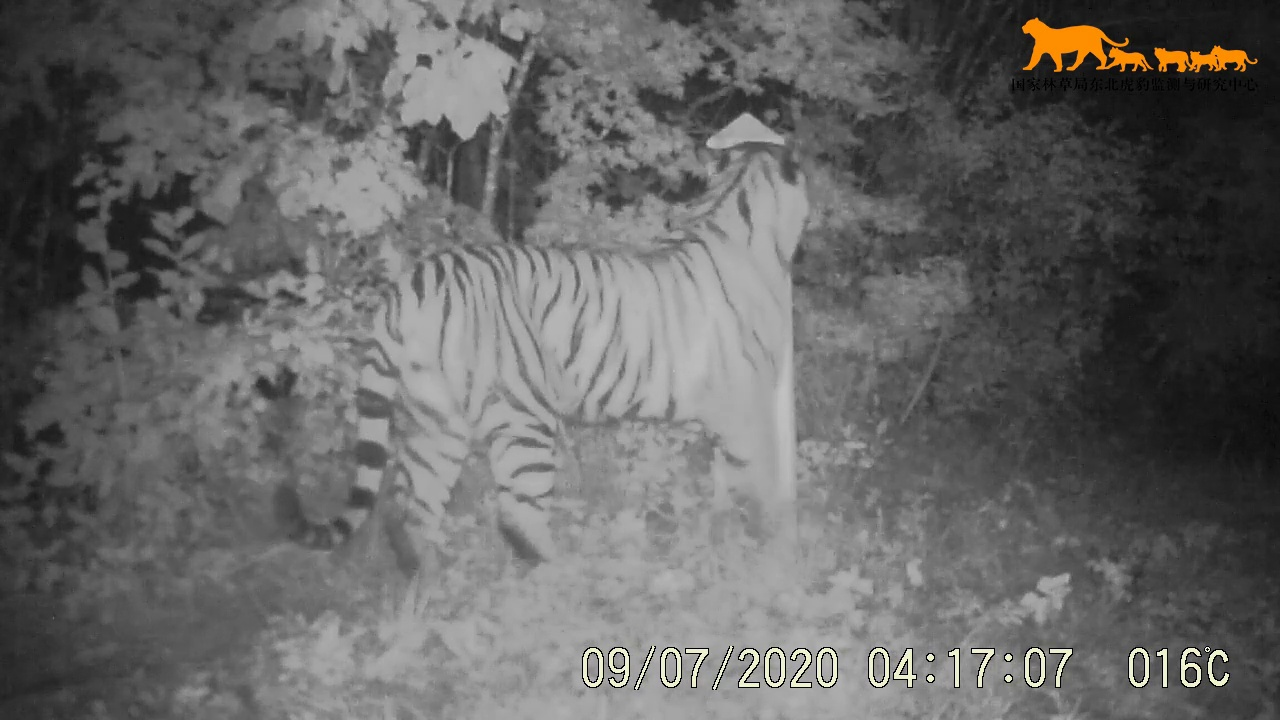Tiger: (260, 127, 902, 612)
